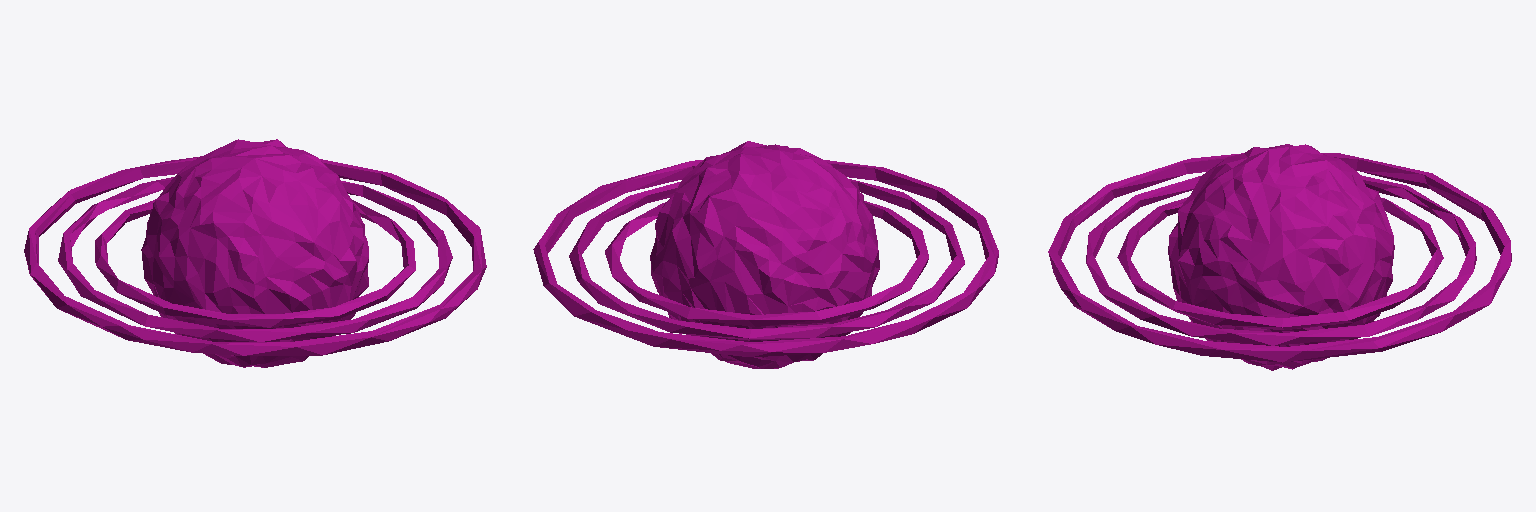
Rendered from Uranus.obj.
3 views of the same model, side by side, from view 1: azimuth 30°, elevation 25°; view 2: azimuth 150°, elevation 25°; view 3: azimuth 270°, elevation 25° (orthographic).
Parts seen in each view (by area): view 1: Uranus; view 2: Uranus; view 3: Uranus.
Part boxes in pixels (bbox=[...]): Uranus: bbox=[24, 139, 486, 367]; Uranus: bbox=[533, 141, 998, 368]; Uranus: bbox=[1048, 144, 1511, 370].
Size of the model in its own units: 72.79 by 35.97 by 73.15.